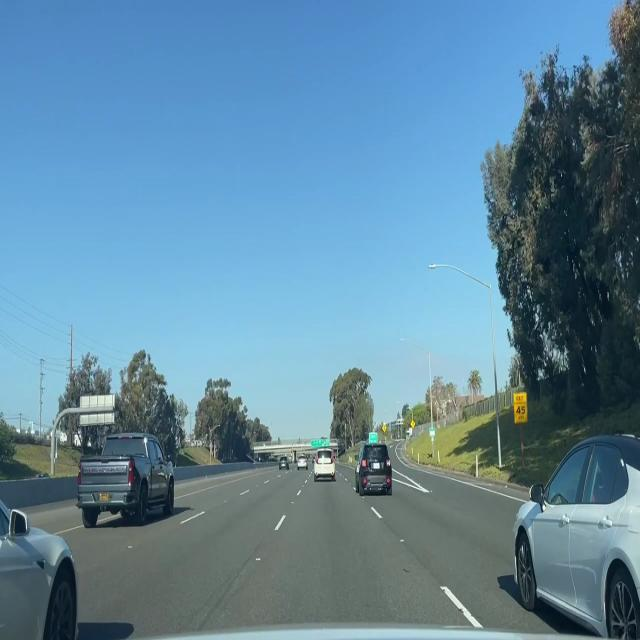street-signs: (368, 431, 378, 445), (311, 438, 322, 448), (322, 438, 330, 450)
